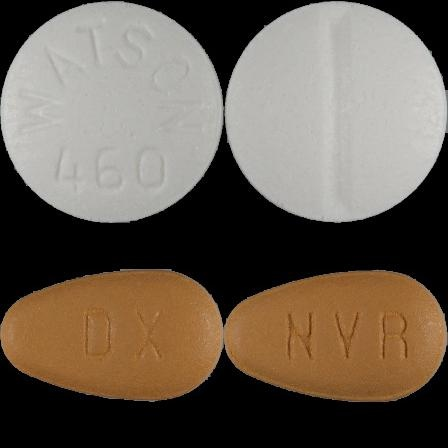55289-806: (0, 0, 224, 224)
